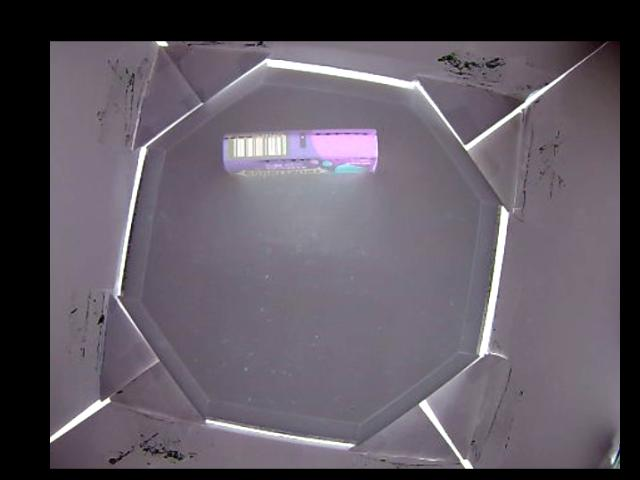Bottle: (222, 126, 381, 176)
